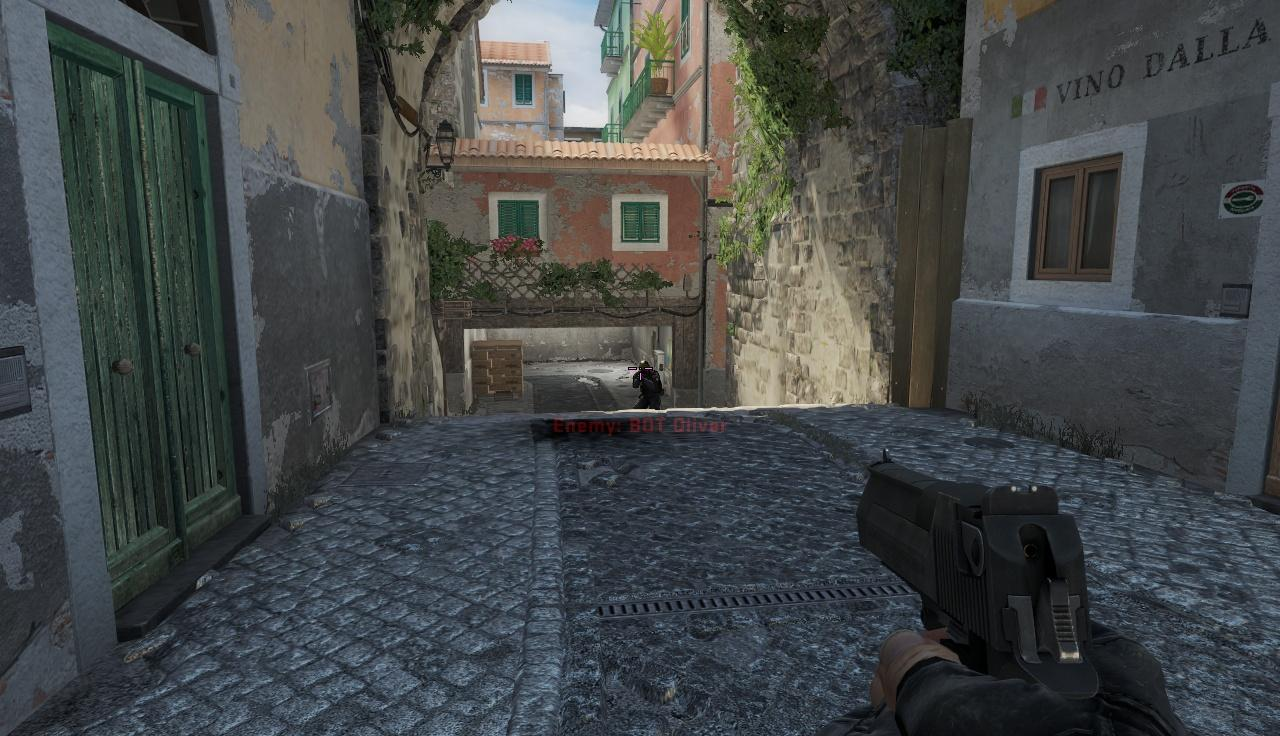ct: (632, 360, 661, 410)
cthead: (638, 360, 651, 372)
pistol: (852, 443, 1171, 736)
